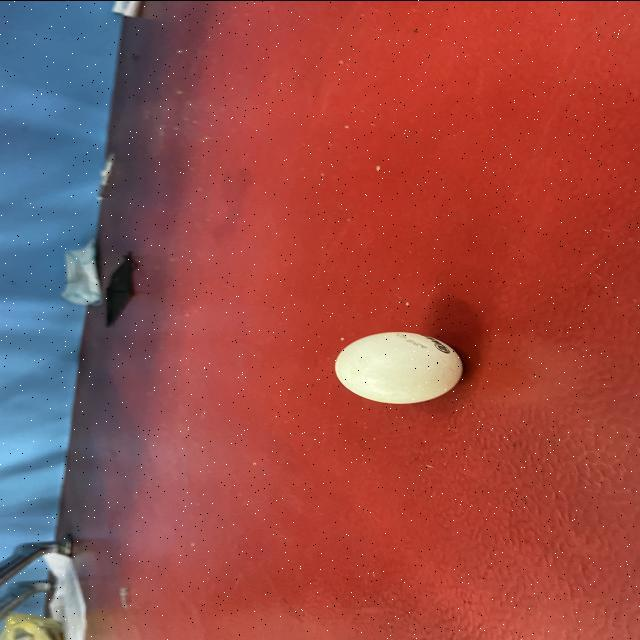ping-pong-ball: (332, 328, 466, 404)
